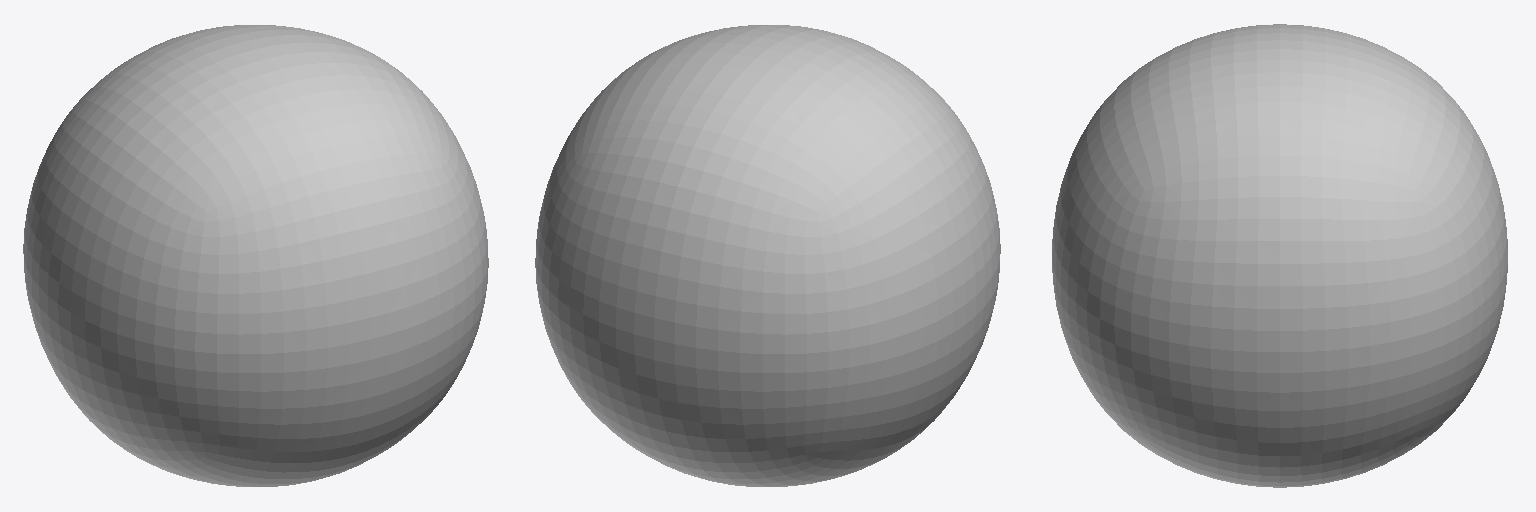
File: eye2.obj
3 views of the same model, side by side, from view 1: azimuth 30°, elevation 25°; view 2: azimuth 150°, elevation 25°; view 3: azimuth 270°, elevation 25° (orthographic).
Parts seen in each view (by area): view 1: eye1.001_Cube.002; view 2: eye1.001_Cube.002; view 3: eye1.001_Cube.002.
Part boxes in pixels (x1,y1,x2,y2): eye1.001_Cube.002: (23,25,488,486); eye1.001_Cube.002: (535,25,1000,486); eye1.001_Cube.002: (1052,24,1507,487).
Size of the model in its own units: 0.6886 by 0.6886 by 0.6886.